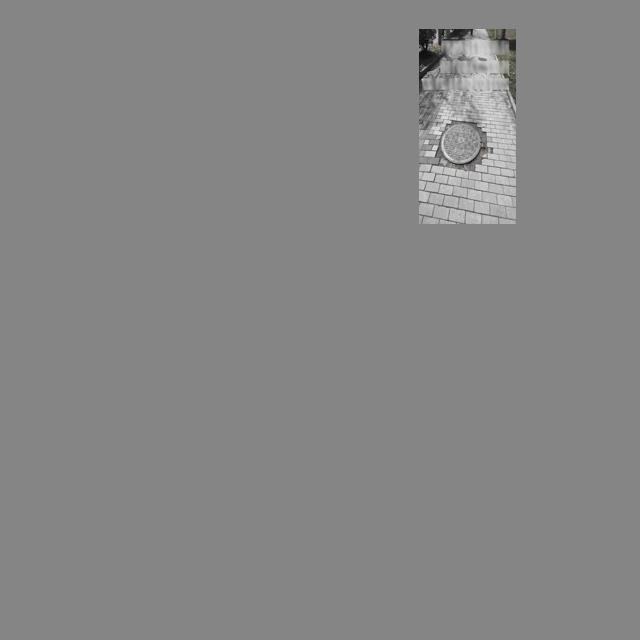good: (441, 123, 486, 164)
